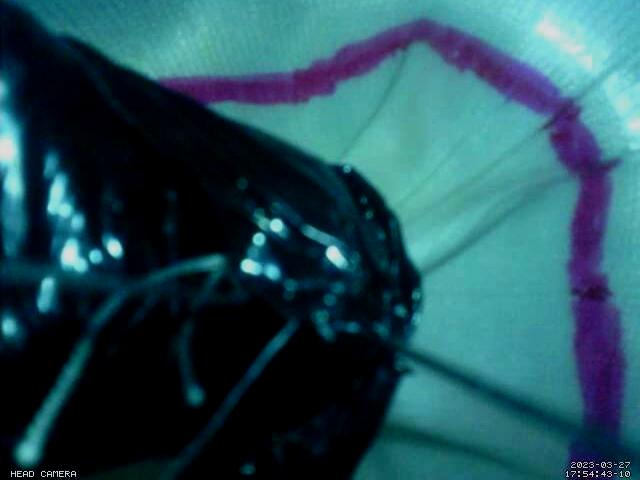red-circle: (157, 18, 628, 480)
